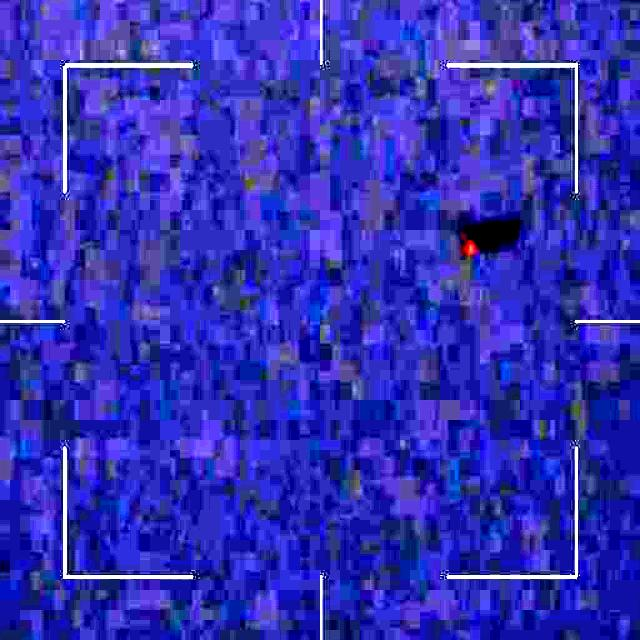bird: (455, 220, 512, 265)
